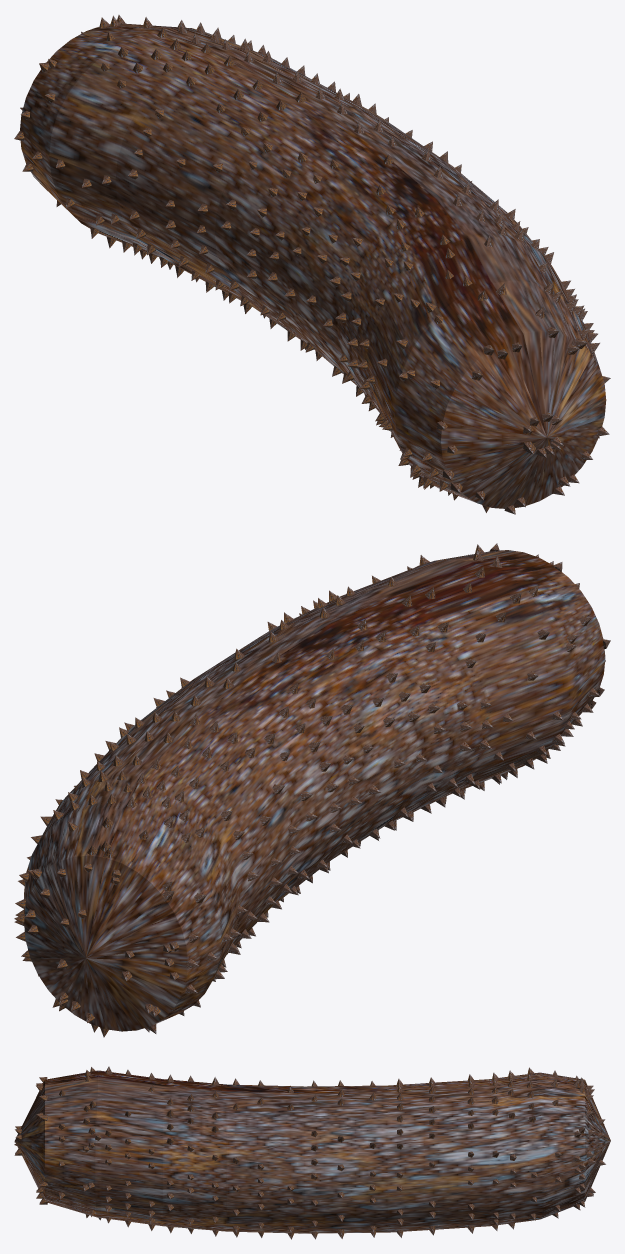
Rendered from PepinoMar.fbx.
3 views of the same model, one above another, from view 1: azimuth 30°, elevation 25°; view 2: azimuth 150°, elevation 25°; view 3: azimuth 270°, elevation 25° (orthographic). The views are drawn at different scales.
Visible parts, largest first — view 1: Cylinder; view 2: Cylinder; view 3: Cylinder.
Part boxes in pixels (left/top/right/bottom): Cylinder: left=14, top=15, right=610, bottom=514; Cylinder: left=14, top=543, right=610, bottom=1037; Cylinder: left=14, top=1066, right=610, bottom=1239.
Bounding box in the file's own units: 21.79 × 18.12 × 67.54.
Materials: 1 (1 with a texture image).
